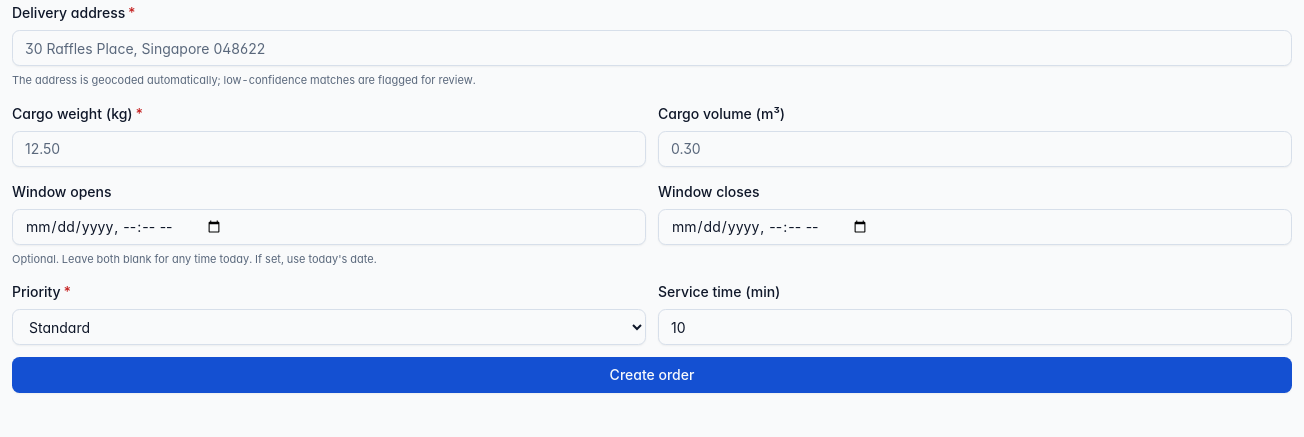
Test case: OrderForm › blocks submission and names every invalid field
Click the button "Create order": x=652, y=375 [12,357,1292,393]
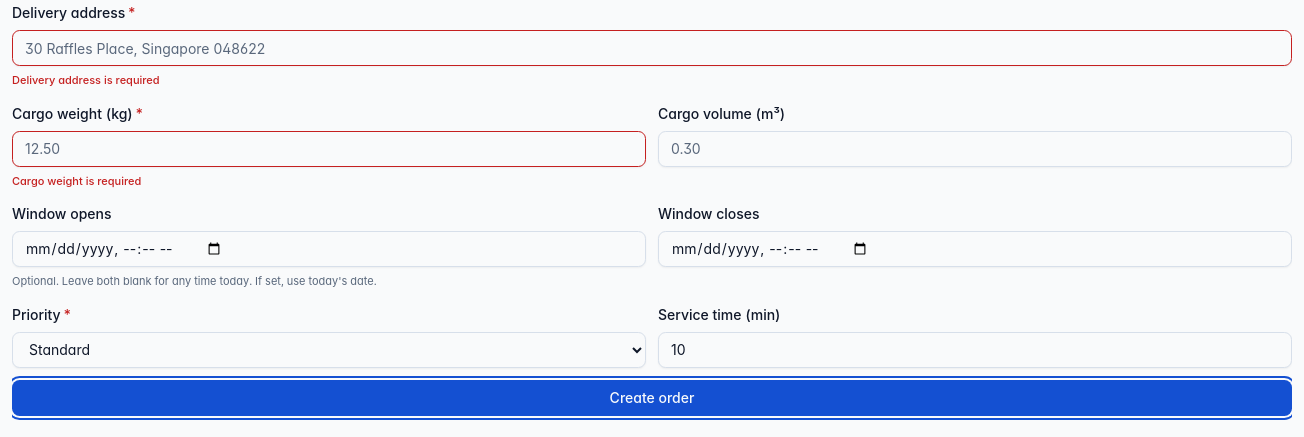
Check: the text "Delivery address is required" is shown, box [12,73,160,87]
Check: the text "Cargo weight is required" is shown, box [12,174,141,188]
